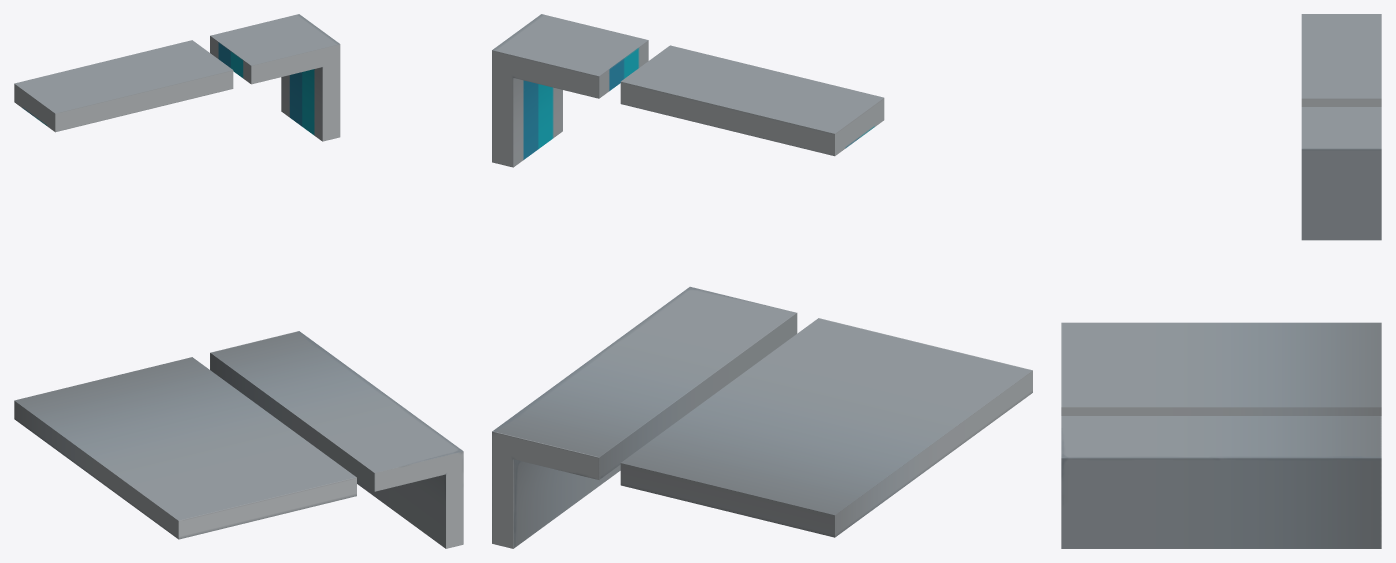
Rendered from Conveniance_Wall.fbx.
The picture shows the model from 3 angles, left to right: view 1: azimuth 30°, elevation 25°; view 2: azimuth 150°, elevation 25°; view 3: azimuth 270°, elevation 25°; orthographic projection. The views are drawn at different scales.
Visible parts, largest first — view 1: Wall, Wall_Corner, Wall_Upper, Wall_Upper_Corner; view 2: Wall, Wall_Corner, Wall_Upper, Wall_Upper_Corner; view 3: Wall_Corner, Wall, Wall_Upper_Corner, Wall_Upper.
Boxes of the visible parts, <box> form: Wall: <box>14,357,356,539</box>; Wall_Corner: <box>210,331,463,548</box>; Wall_Upper: <box>14,40,233,132</box>; Wall_Upper_Corner: <box>210,14,340,141</box>; Wall: <box>620,318,1032,537</box>; Wall_Corner: <box>492,286,797,548</box>; Wall_Upper: <box>620,45,884,156</box>; Wall_Upper_Corner: <box>492,14,648,167</box>; Wall_Corner: <box>1061,416,1381,548</box>; Wall: <box>1061,322,1381,415</box>; Wall_Upper_Corner: <box>1301,107,1381,240</box>; Wall_Upper: <box>1301,14,1381,106</box>.
Size of the model in its own units: 256 by 352 by 256.
